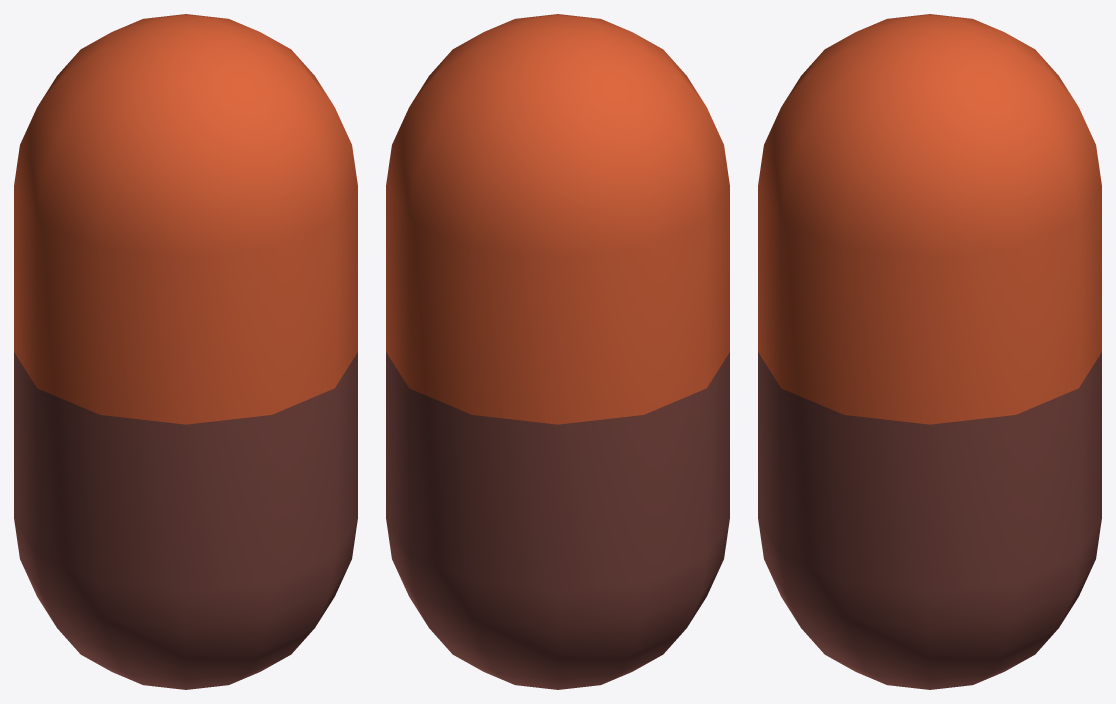
The model's file is MODEL_PowerUp_Strength (1).fbx.
The picture shows the model from 3 angles, left to right: view 1: azimuth 30°, elevation 25°; view 2: azimuth 150°, elevation 25°; view 3: azimuth 270°, elevation 25°; orthographic projection.
Parts seen in each view (by area): view 1: MESH_Strong; view 2: MESH_Strong; view 3: MESH_Strong.
Part boxes in pixels (x1=…): MESH_Strong: x1=14, y1=14, x2=357, y2=689; MESH_Strong: x1=386, y1=14, x2=729, y2=689; MESH_Strong: x1=758, y1=14, x2=1101, y2=689.
Bounding box in the file's own units: 29.55 × 61.17 × 29.55.
